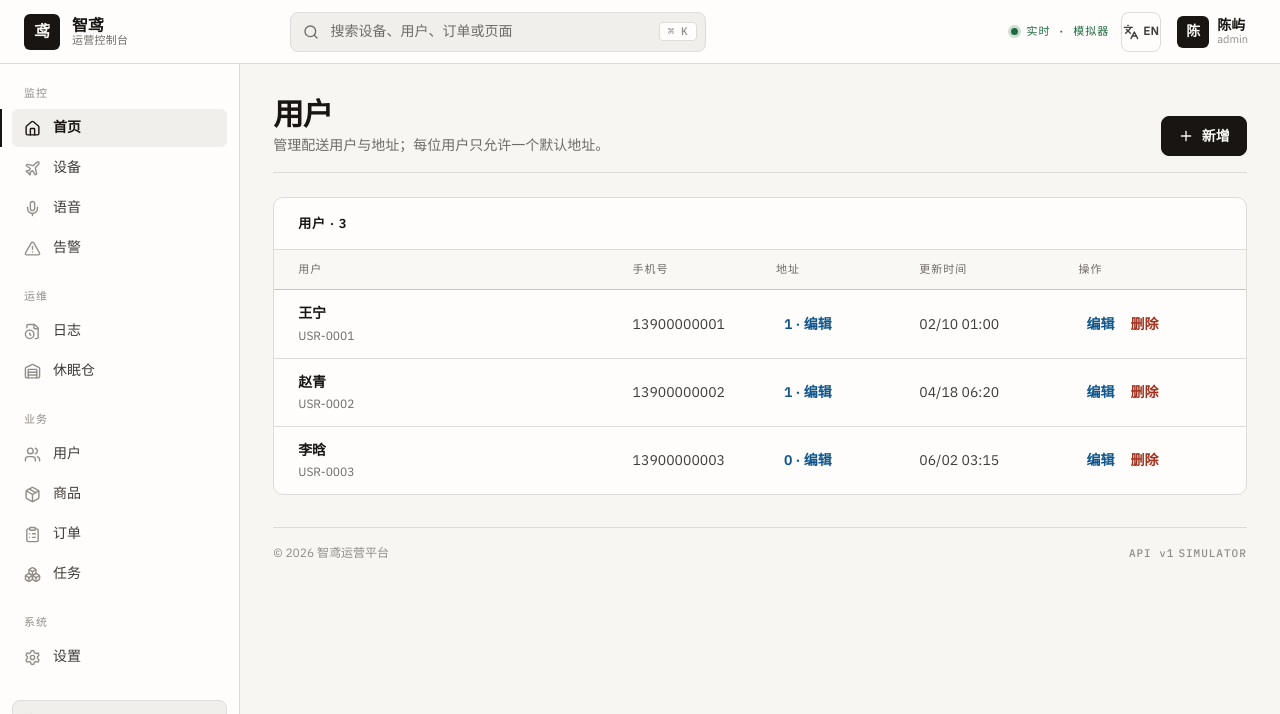
Test case: UsersView › edits an existing address through the same form
Step 1. Click the button "1 · 编辑" next to "13900000001" → point(808, 324), box [776, 306, 840, 342]
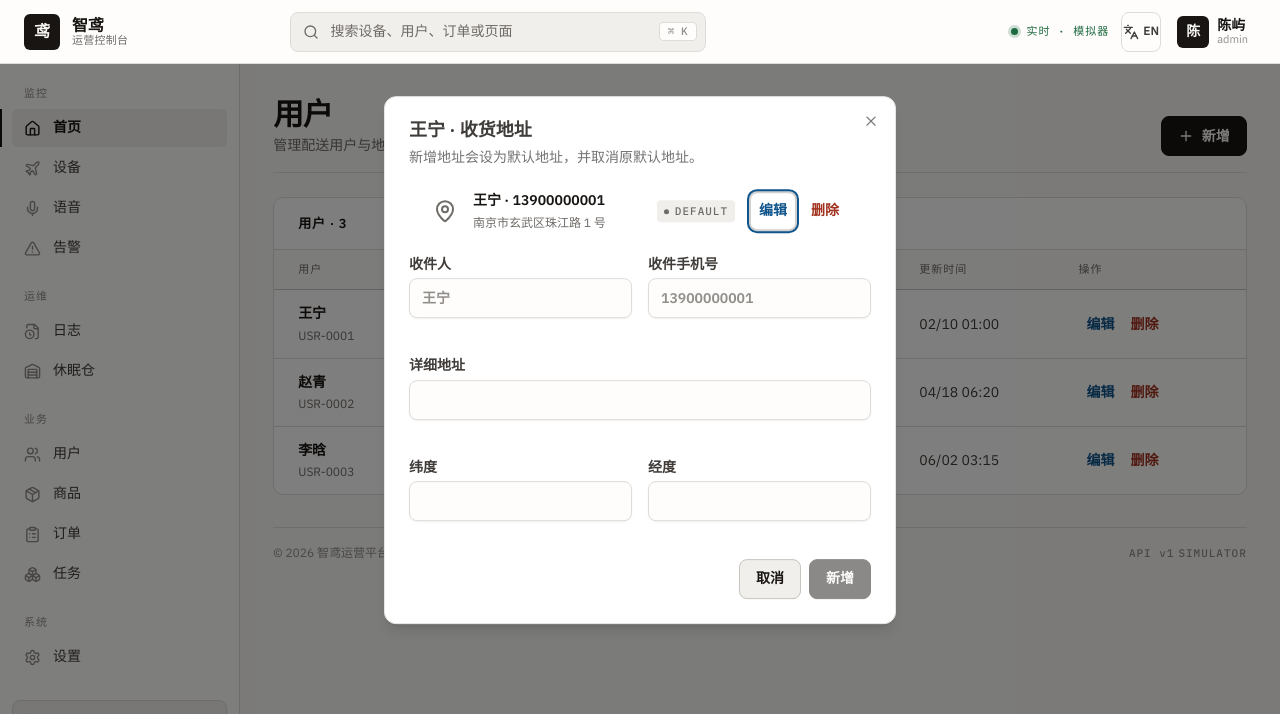
Step 2. Click the button "编辑" → point(773, 211), box [751, 193, 795, 229]
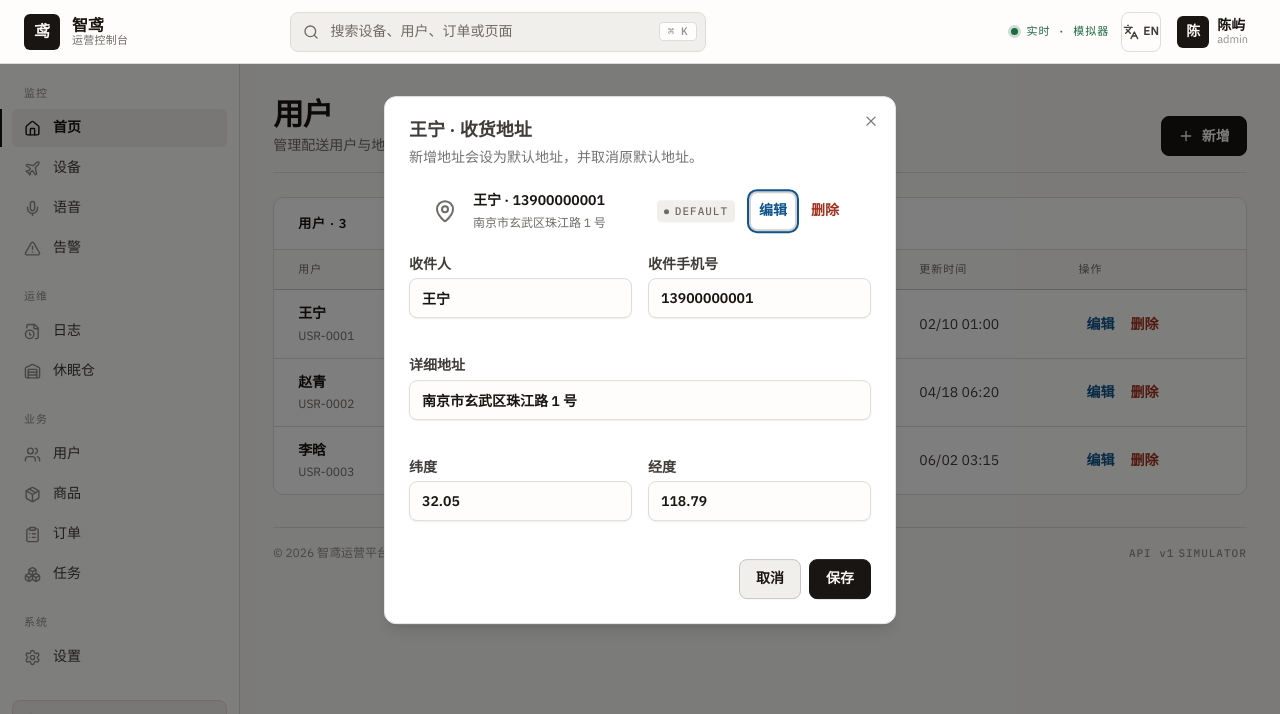
Step 3. Replace the text in the field labelled "详细地址" with "改过的详细地址" → point(640, 400), box [409, 380, 871, 420]
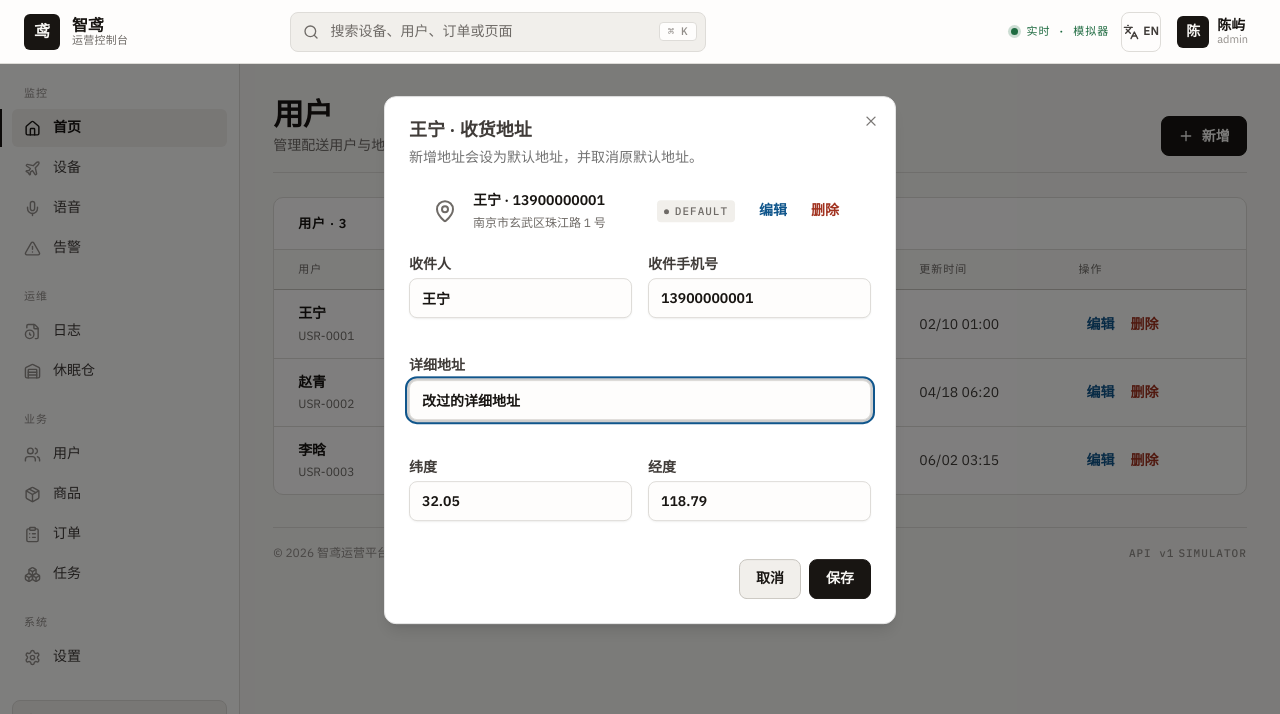
Step 4. Click the button "保存" → point(840, 579), box [809, 559, 871, 599]
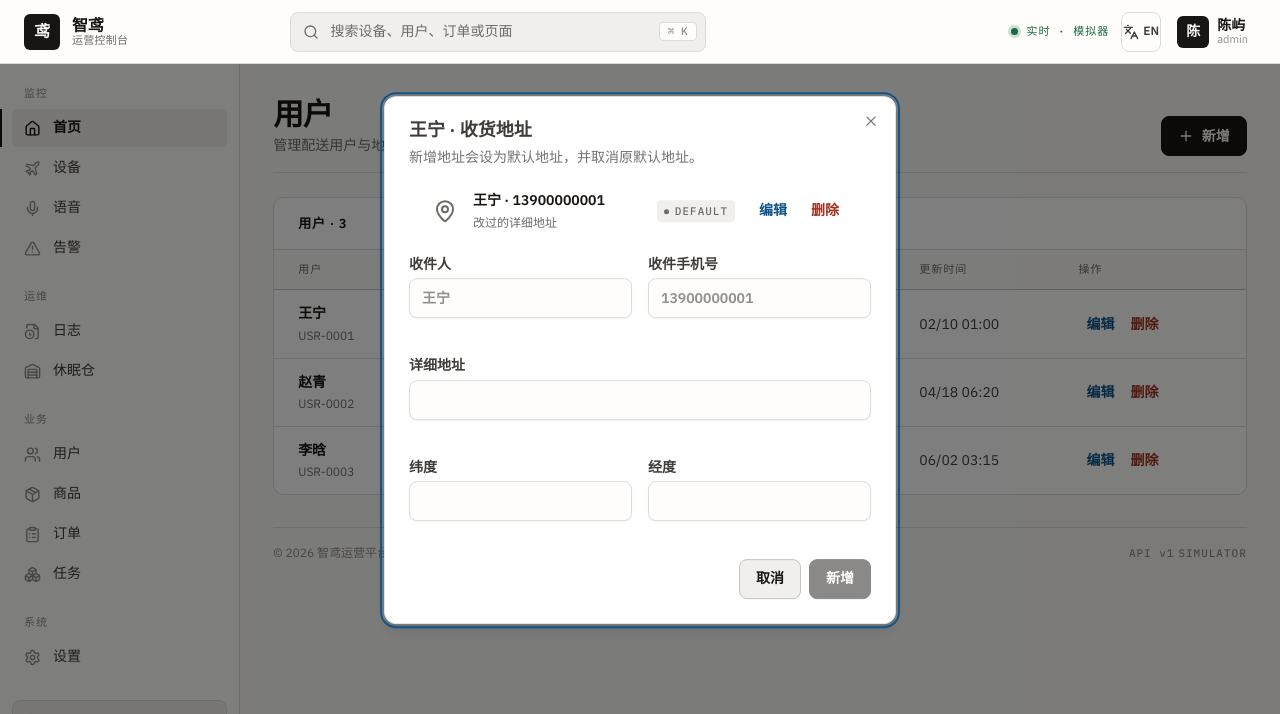
Expected: the text "改过的详细地址" is shown, [473, 215, 557, 230]
